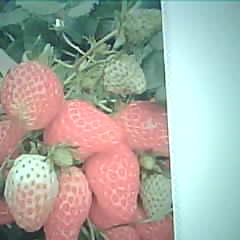straw-ripe: (1, 61, 63, 130), (50, 101, 122, 152), (86, 152, 140, 215)
straw-unripe: (6, 153, 59, 232), (105, 53, 147, 94), (141, 172, 172, 219)
